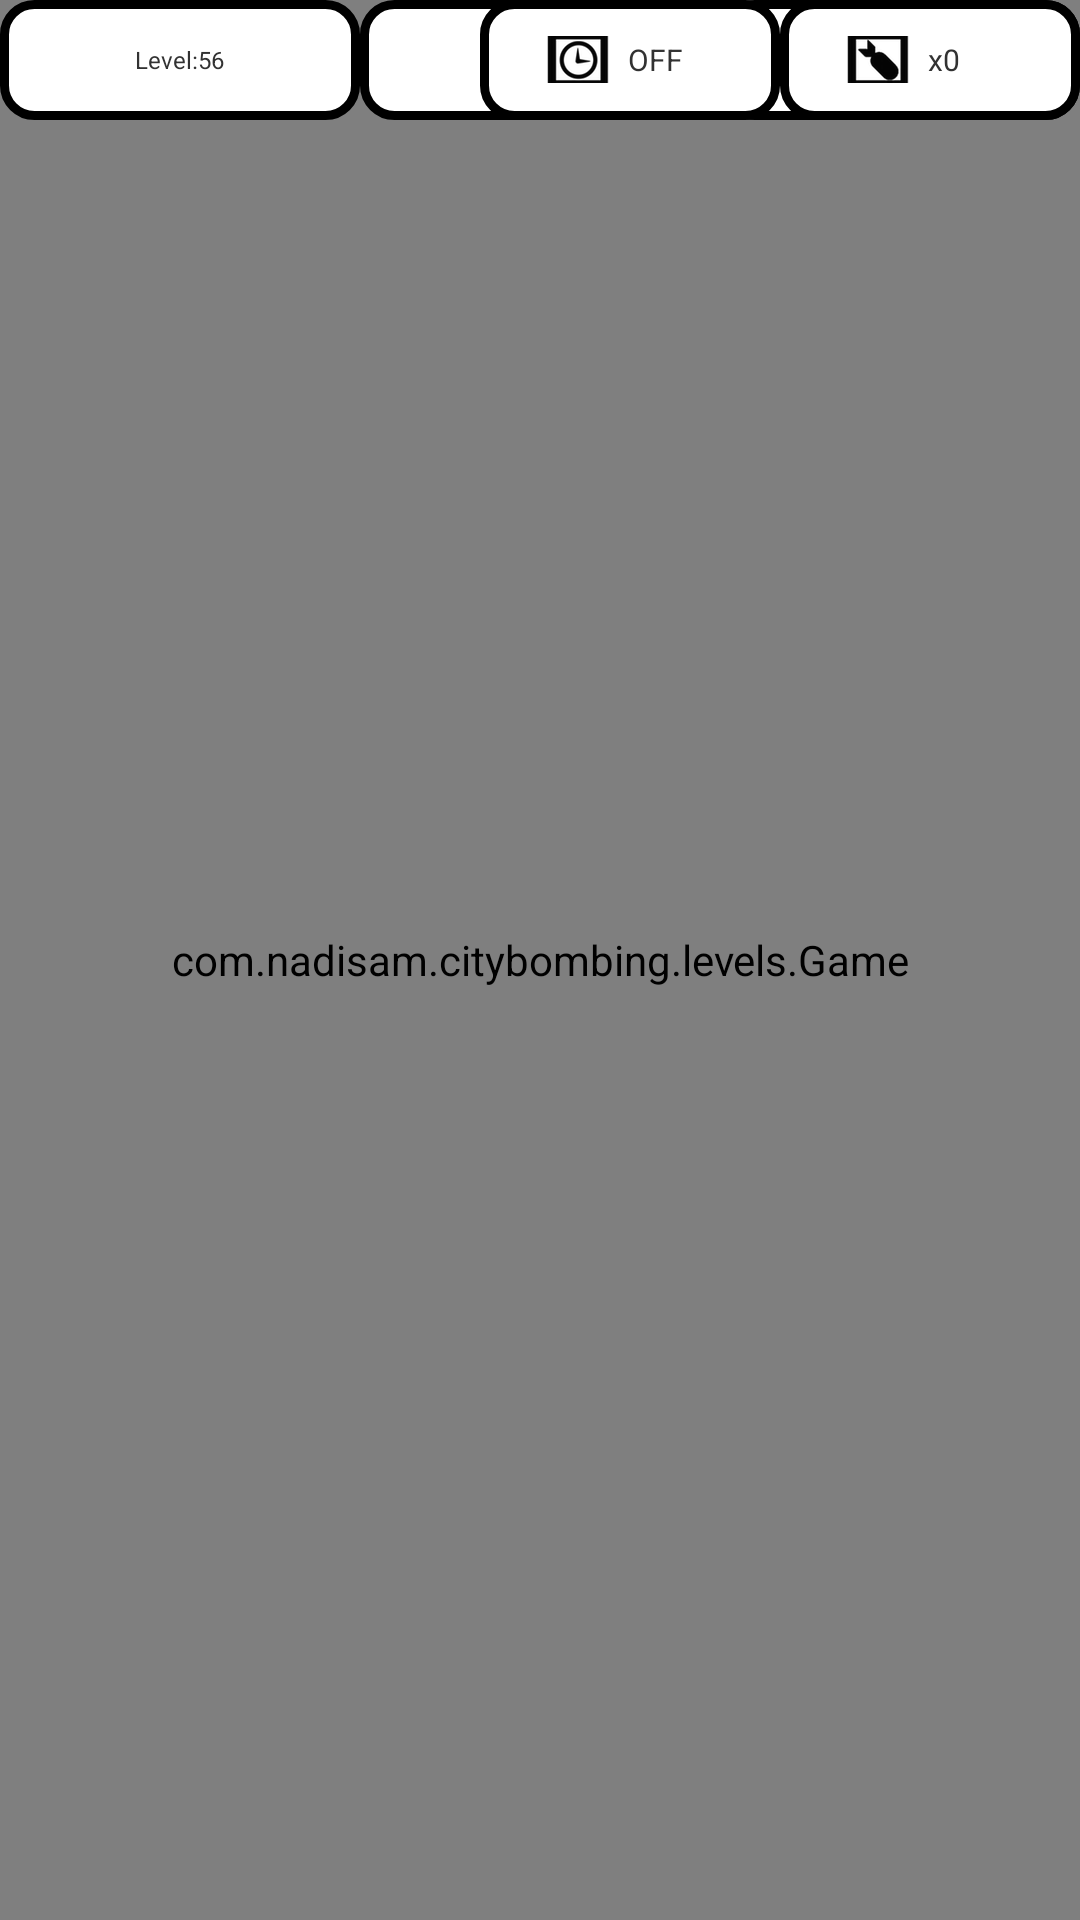

Named icons in this screenshot (1080w x 1920h) and their centers, point (x, y):
extra boomb: point (878, 59)
extra more slow: point (578, 59)
